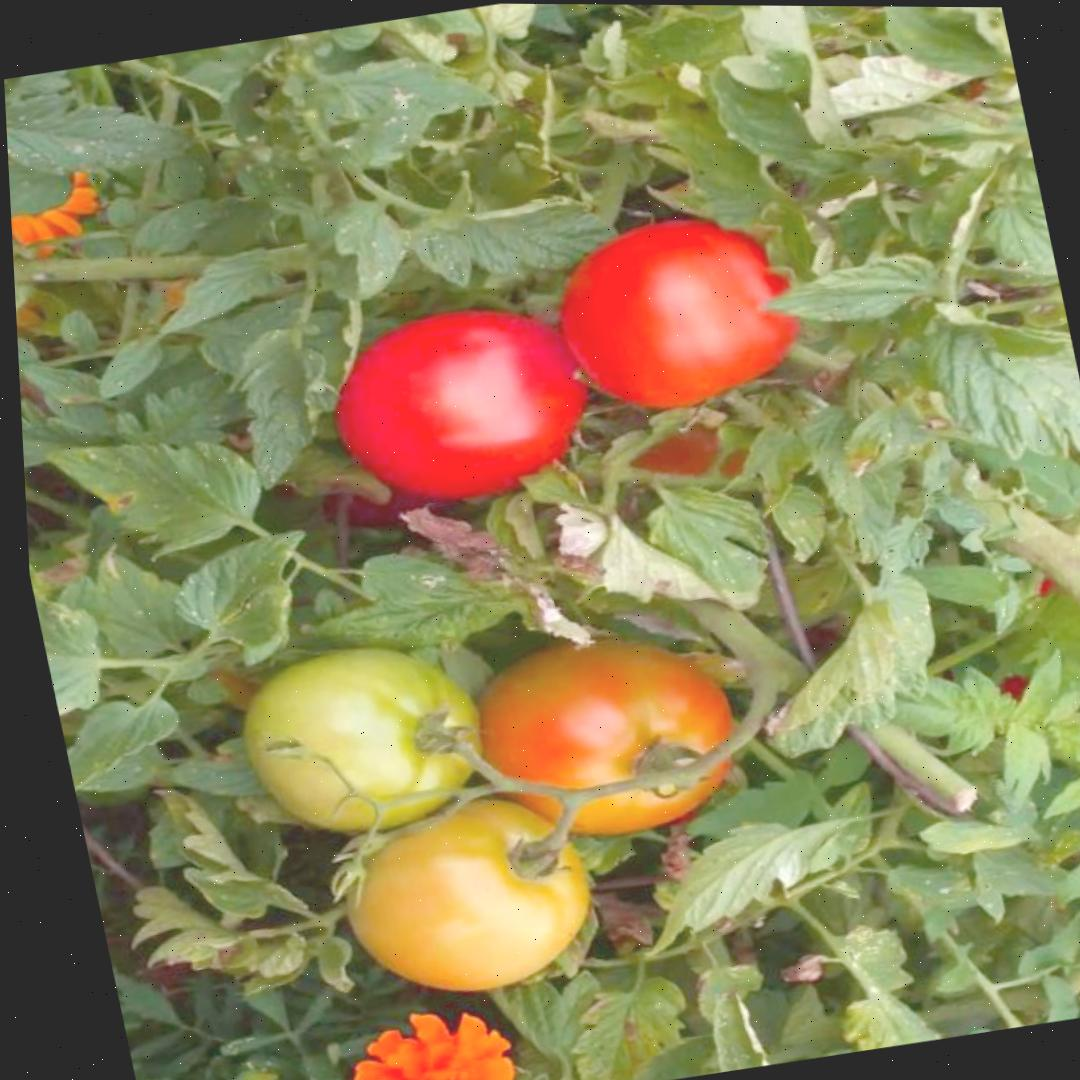matang: (311, 288, 610, 520), (538, 199, 816, 424)
mentah: (222, 625, 500, 847)
setengah_matang: (448, 617, 757, 856), (323, 780, 610, 1008)
